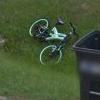Bicycle: (22, 13, 74, 72)
